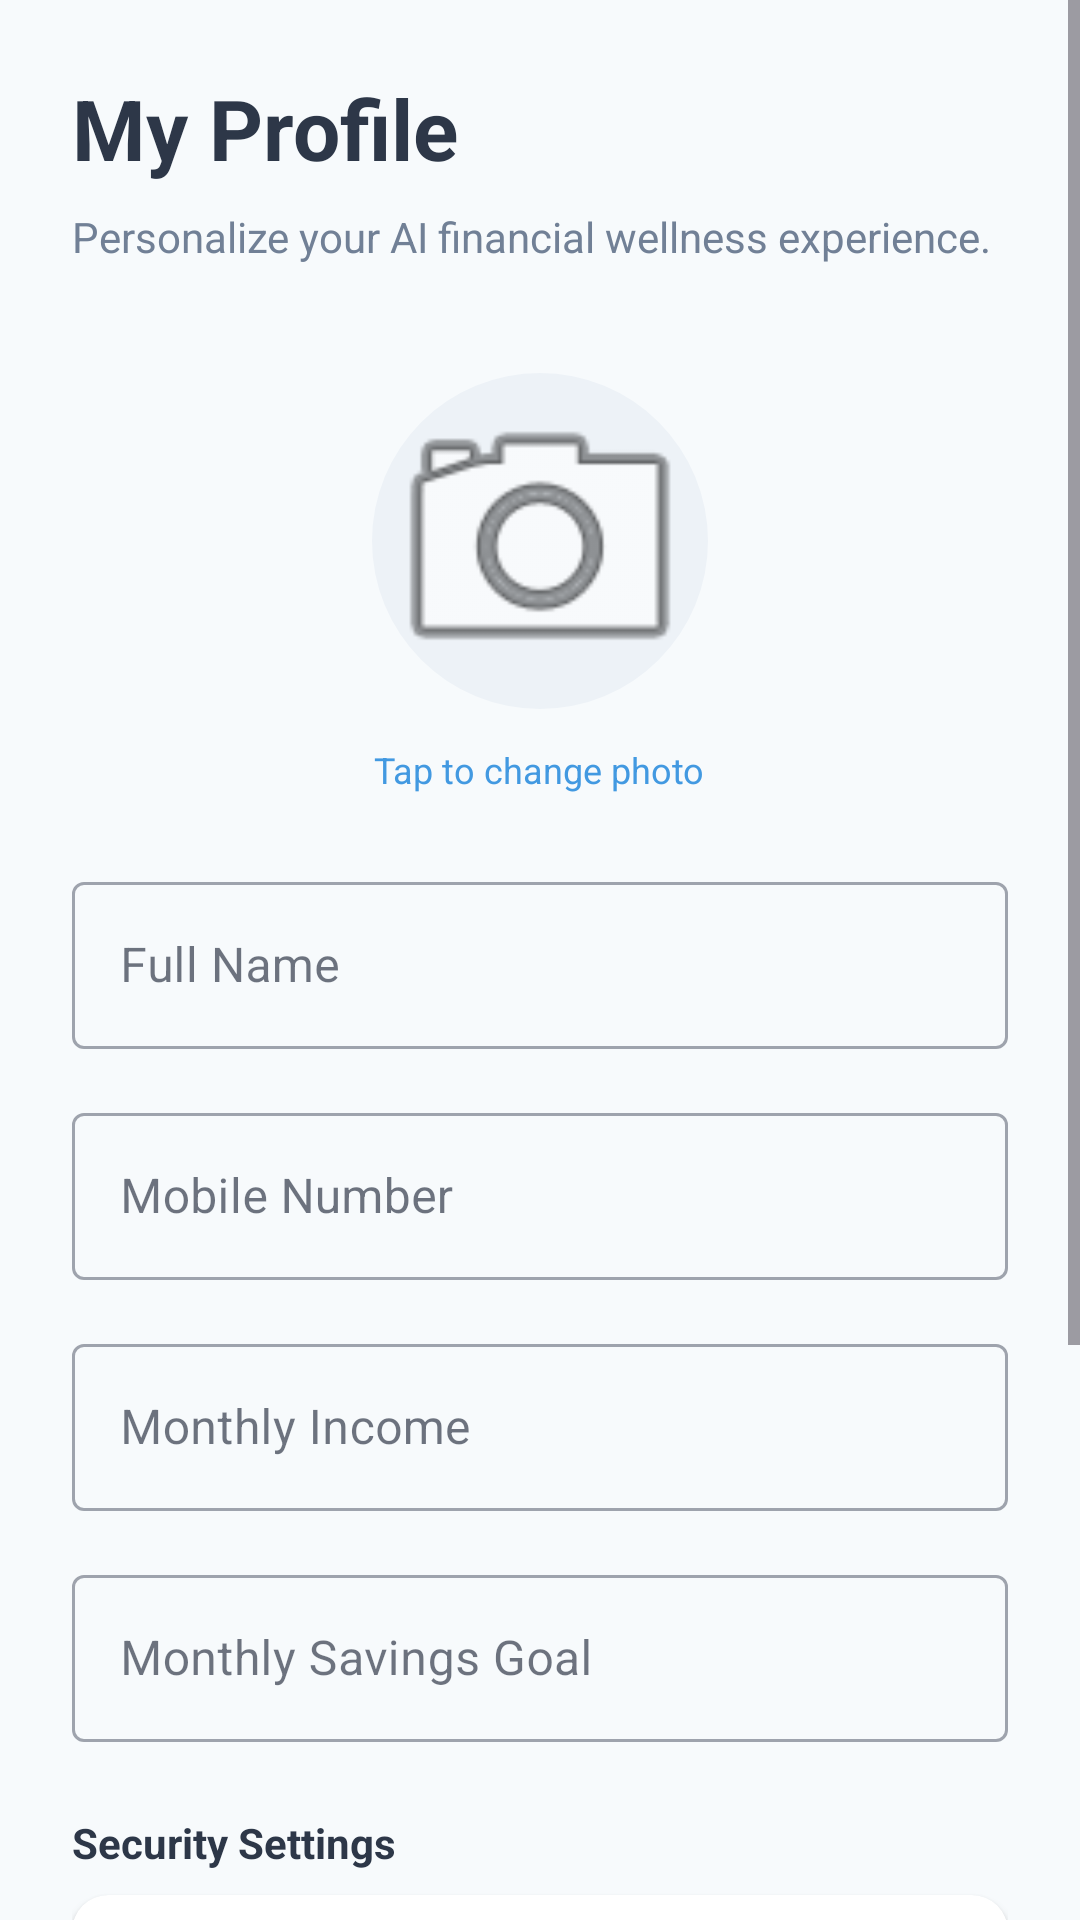

Where icons sit on this 1080*1920 app screen, as bbox(x1, y1, x2, y2):
camera: bbox(410, 432, 670, 640)
